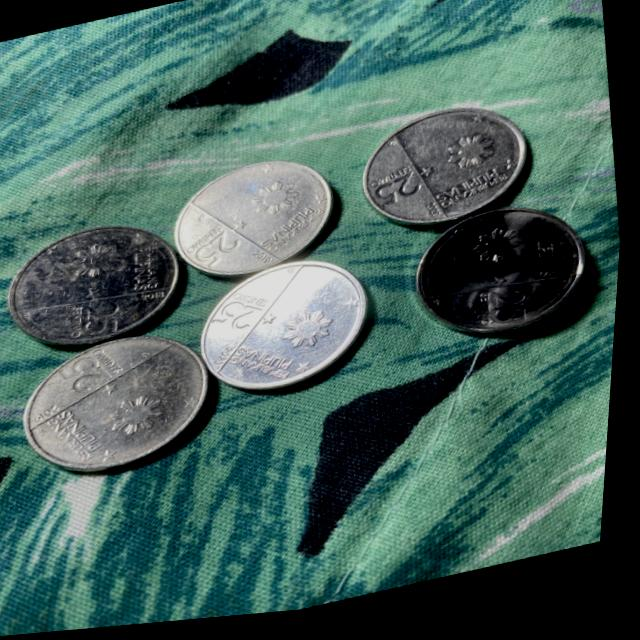25Cent_New_Front: (58, 354, 119, 399), (192, 231, 246, 274), (80, 298, 130, 343), (376, 179, 430, 218), (491, 293, 539, 336), (212, 301, 263, 340)
